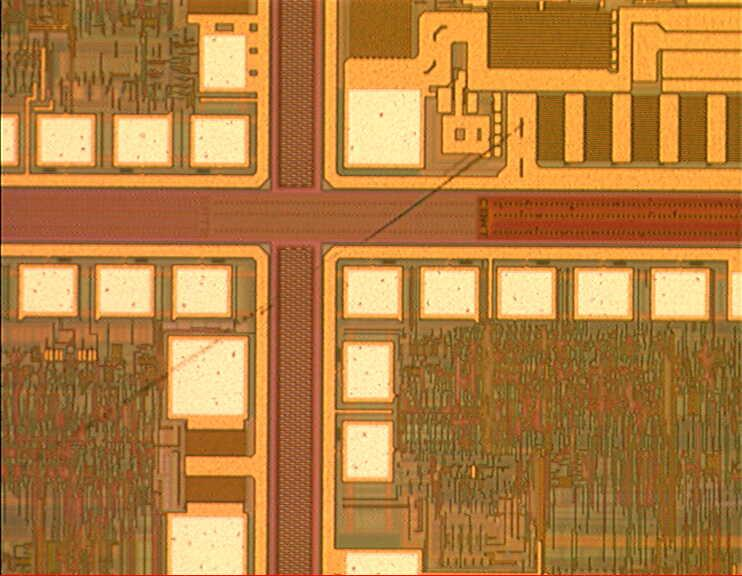SCRATCH: (1, 114, 540, 491)
